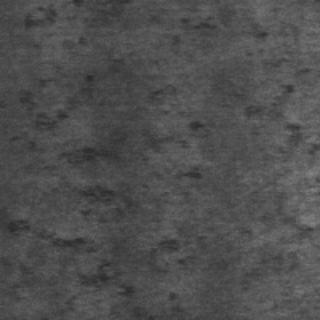rolled pit: (18, 70, 192, 286)
